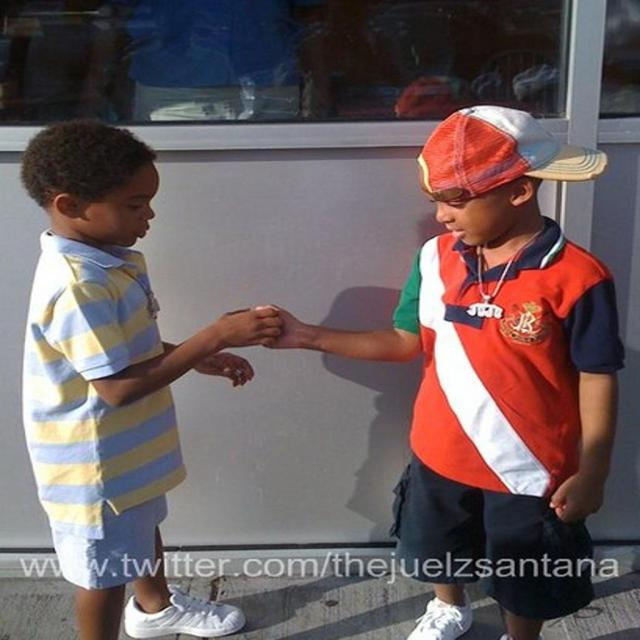nomask: (430, 162, 502, 248), (92, 158, 159, 248)
